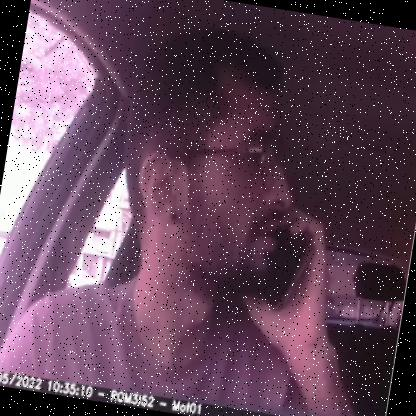phone: (250, 218, 318, 316)
